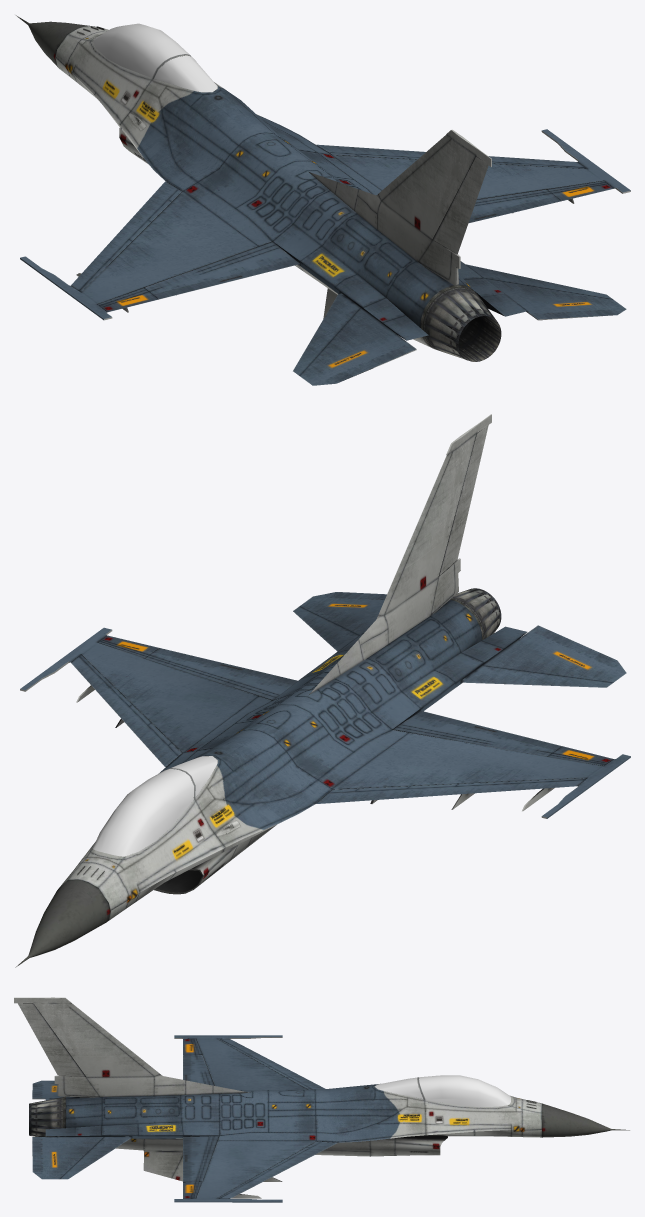
3 renders of one model, top to bottom at view 1: azimuth 30°, elevation 25°; view 2: azimuth 150°, elevation 25°; view 3: azimuth 270°, elevation 25°, orthographic. The views are drawn at different scales.
Parts seen in each view (by area): view 1: F 16; view 2: F 16; view 3: F 16.
Part boxes in pixels (bbox=[...]): F 16: bbox=[15, 15, 630, 385]; F 16: bbox=[15, 414, 630, 967]; F 16: bbox=[14, 997, 629, 1202].
Size of the model in its own units: 1.39 by 0.6706 by 2.18.
2 materials, 1 textured.
